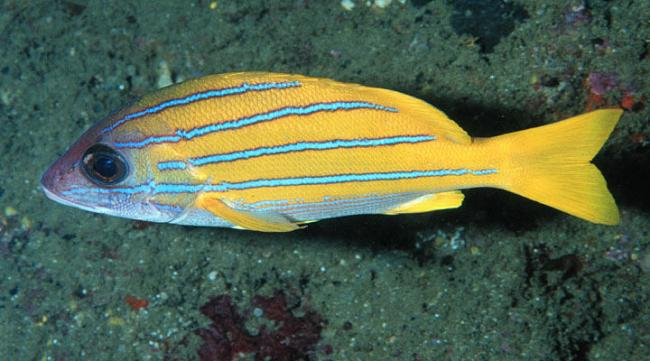fish: (40, 70, 625, 233)
